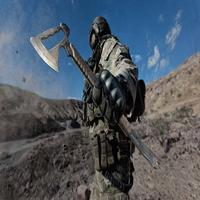knife: (27, 16, 158, 168)
